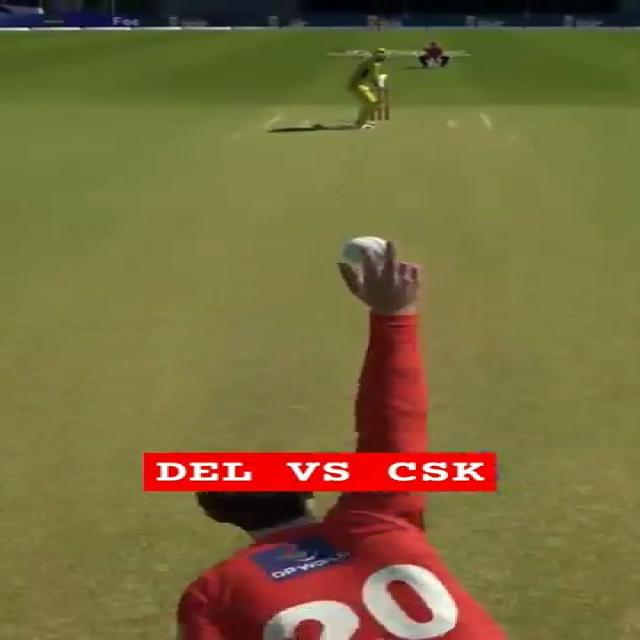ball: (338, 233, 393, 264)
